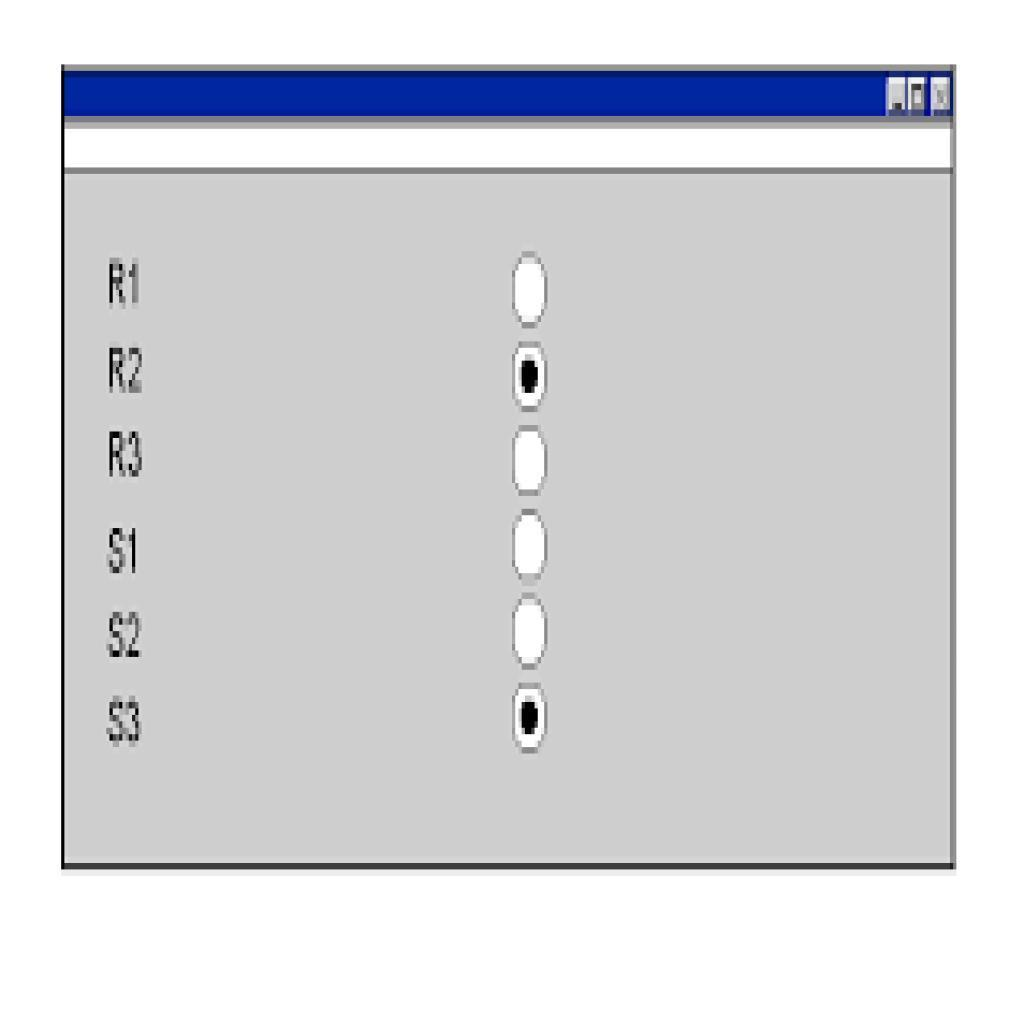radio: (509, 678, 556, 764), (508, 424, 558, 498), (510, 508, 558, 581), (510, 589, 553, 670), (510, 253, 550, 335), (511, 345, 554, 415)
